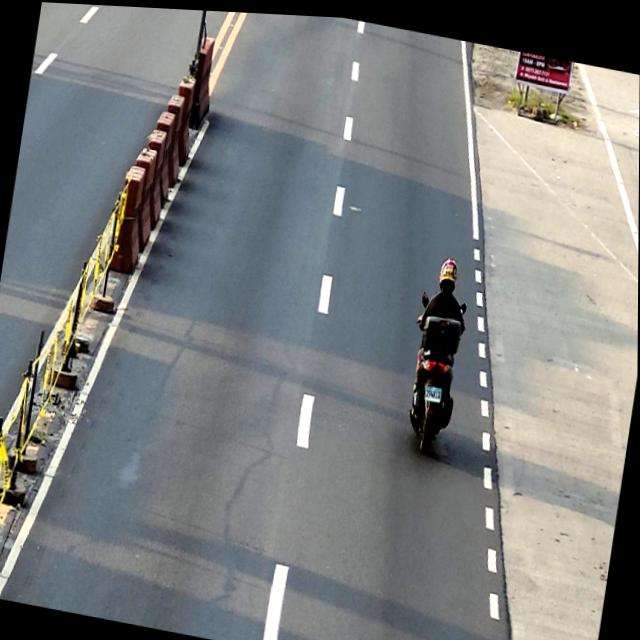License-Plate: (425, 380, 443, 399)
Motorcycle: (399, 284, 469, 456)
